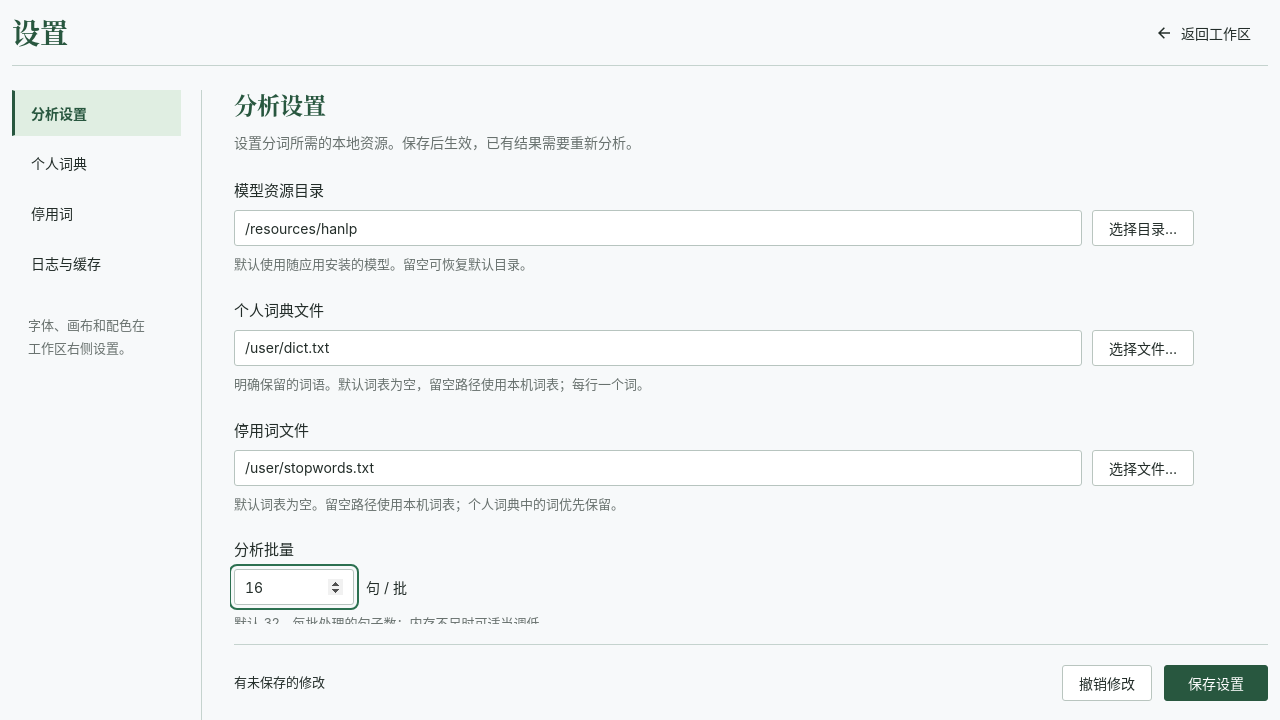
保存配置或词表失败保留草稿，允许修正后重试
Earlier steps of the test are not shown.
Later steps or results of the test are not shown.
Click the button "保存设置": (1216, 682) [1164,664,1268,700]
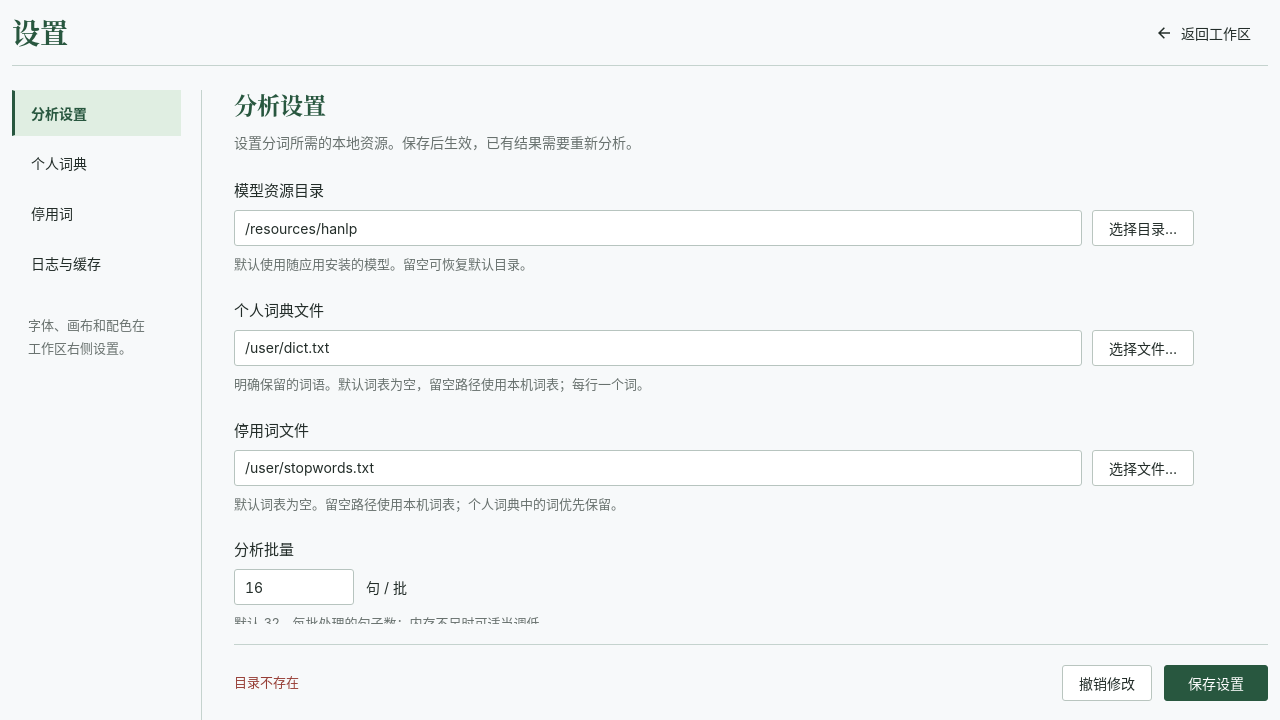
Expected: the text "目录不存在" is shown, [234,674,299,690]
Click the button "撤销修改": (1107, 682) [1062,664,1152,700]
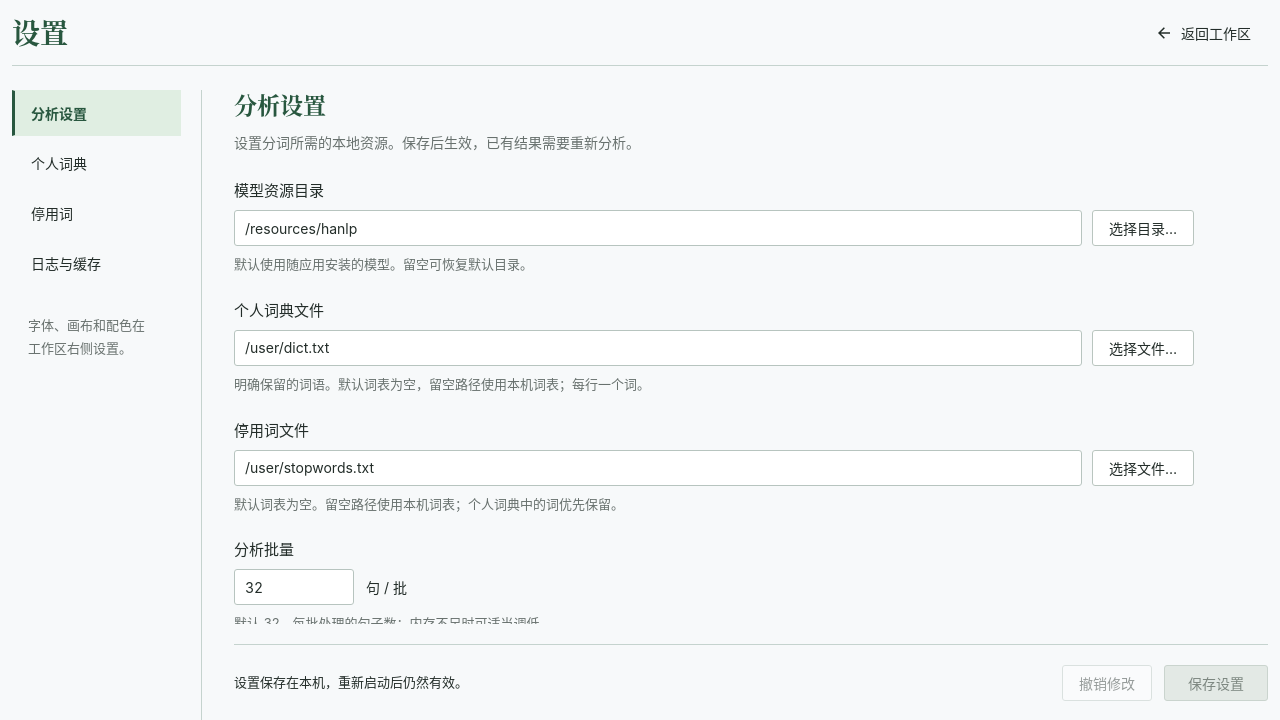
Click the button "停用词": (96, 213) [12,190,181,236]
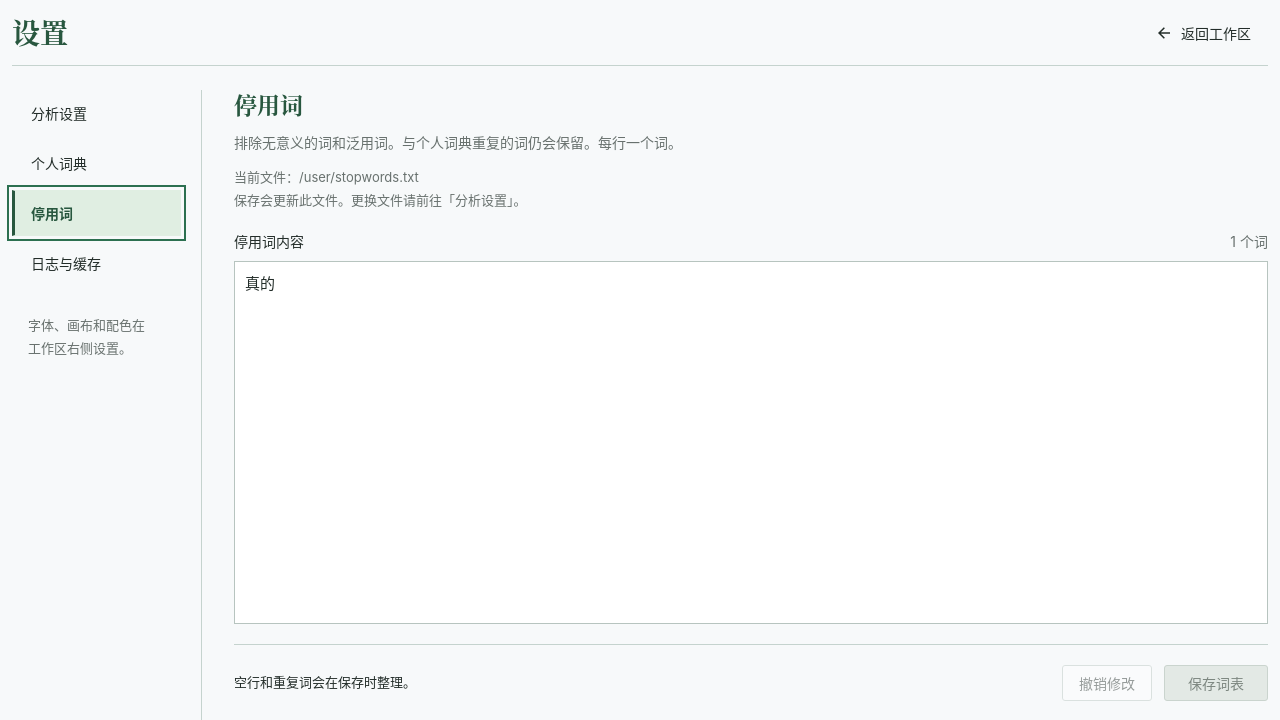
In the text box labelled "停用词内容 1 个词": (751, 442) [234,261,1268,624], type "事情"
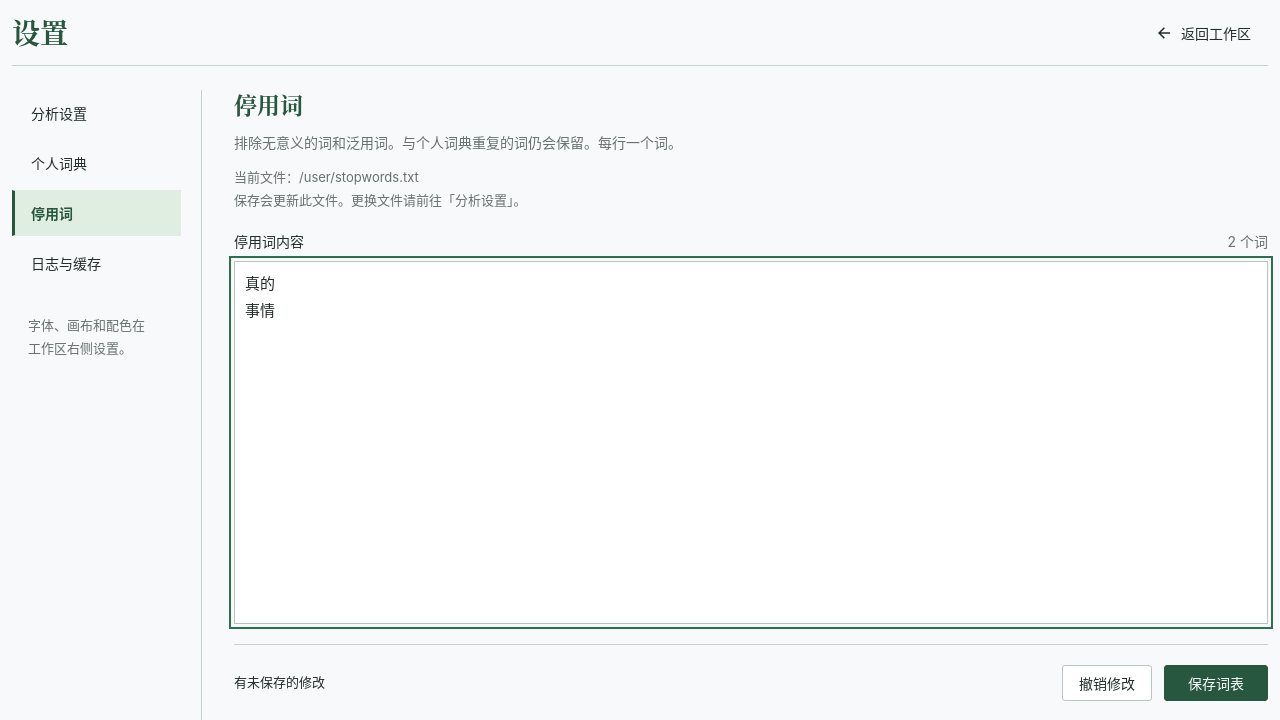
Click the button "保存词表": (1216, 682) [1164,664,1268,700]
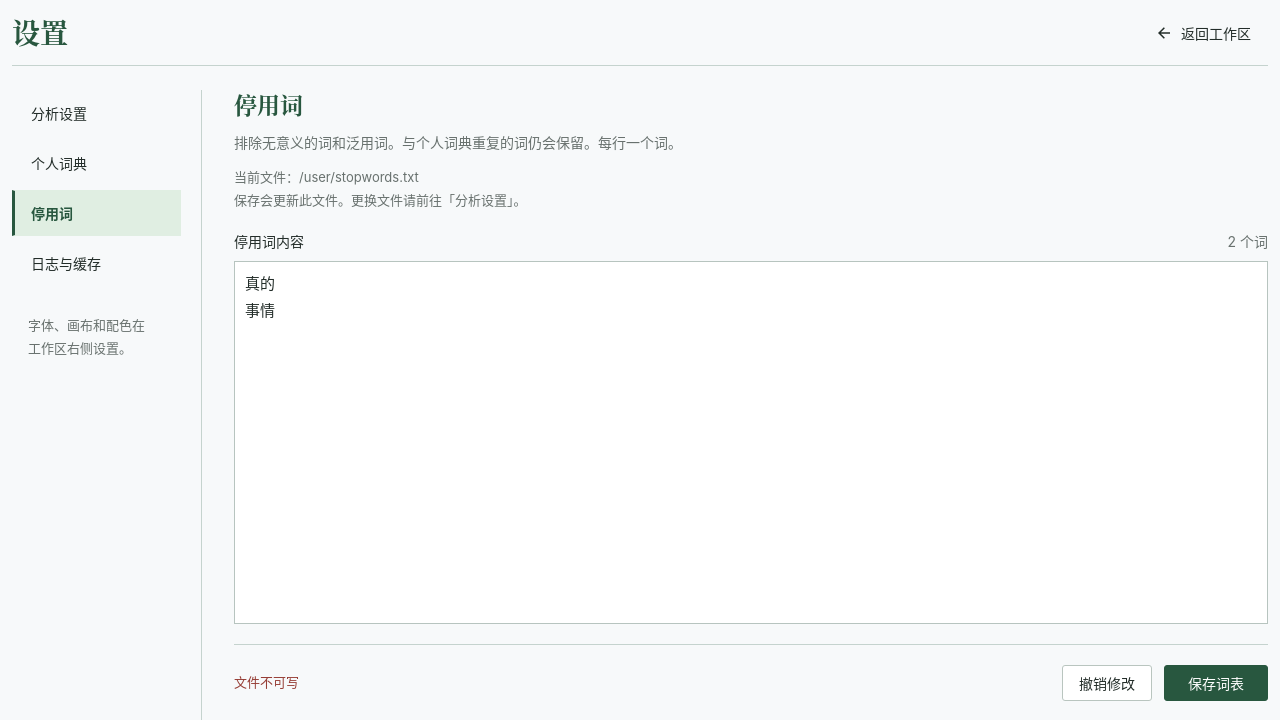
Expected: the text "文件不可写" is shown, [234,674,299,690]
Click the button "保存词表": (1216, 682) [1164,664,1268,700]
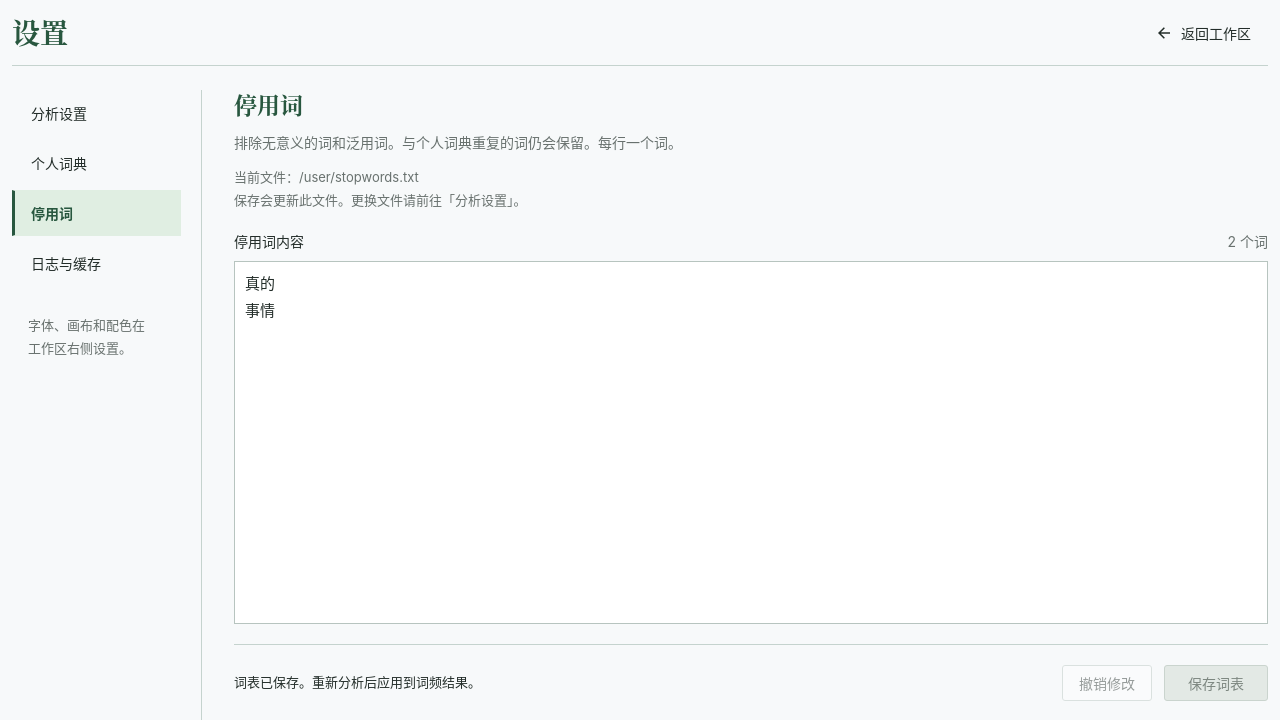
Expected: the text "词表已保存。重新分析后应用到词频结果。" is shown, [234,674,481,690]
